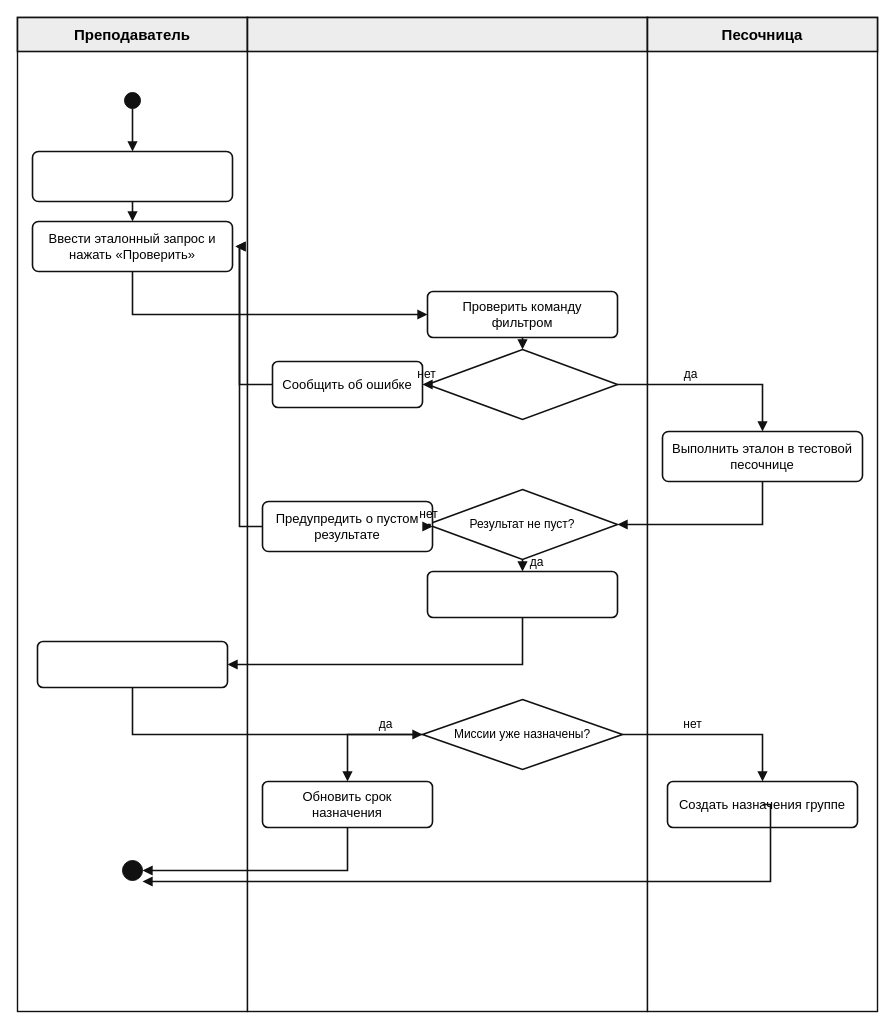
This 896x1030 diagram has some shape labels left out. The shapes that lost their labels are listed below. From the top down, each one's centre as x and y in pixels, then its label:
the point at 447,34: Система
the point at 132,176: Открыть конструктор, ввести название и текст
the point at 522,384: Команда допустима?
the point at 522,594: Сохранить квест в каталоге
the point at 132,664: Выбрать группу, миссии и срок
